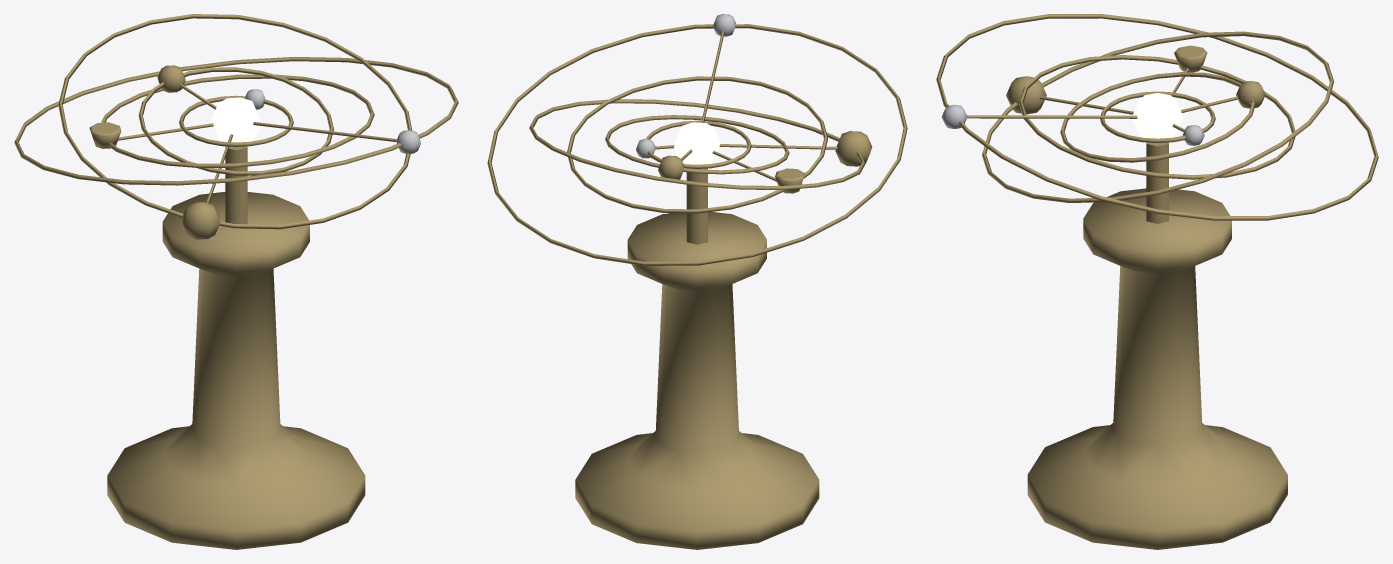
Rendered from Orrery.fbx.
3 renders of one model, left to right at view 1: azimuth 30°, elevation 25°; view 2: azimuth 150°, elevation 25°; view 3: azimuth 270°, elevation 25°, orthographic. The views are drawn at different scales.
Visible parts, largest first — view 1: Orrery, Sun; view 2: Orrery, Sun; view 3: Orrery, Sun.
Part boxes in pixels (left/top/right/bottom): Orrery: left=14, top=14, right=458, bottom=549; Sun: left=211, top=97, right=260, bottom=142; Orrery: left=487, top=14, right=907, bottom=549; Sun: left=674, top=122, right=720, bottom=164; Orrery: left=936, top=14, right=1378, bottom=549; Sun: left=1132, top=93, right=1183, bottom=138.
Size of the model in its own units: 2.79 by 2.9 by 2.74.
